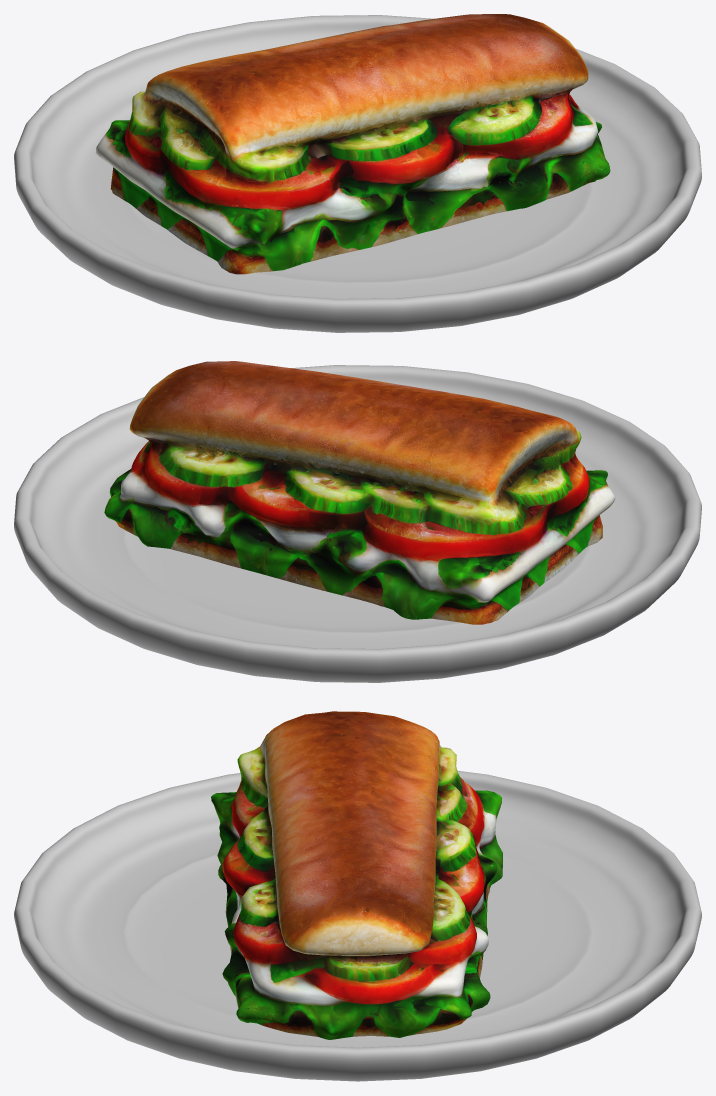
Rendered from sandwich.fbx.
3 renders of one model, top to bottom at view 1: azimuth 30°, elevation 25°; view 2: azimuth 150°, elevation 25°; view 3: azimuth 270°, elevation 25°, orthographic.
Parts seen in each view (by area): view 1: Sandwich; view 2: Sandwich; view 3: Sandwich.
Boxes of the visible parts, left/top/right/bottom form: Sandwich: left=14, top=14, right=701, bottom=332; Sandwich: left=14, top=361, right=701, bottom=682; Sandwich: left=14, top=711, right=701, bottom=1081.
Size of the model in its own units: 25.36 by 7.23 by 25.36.
Materials: 2 (1 with a texture image).
